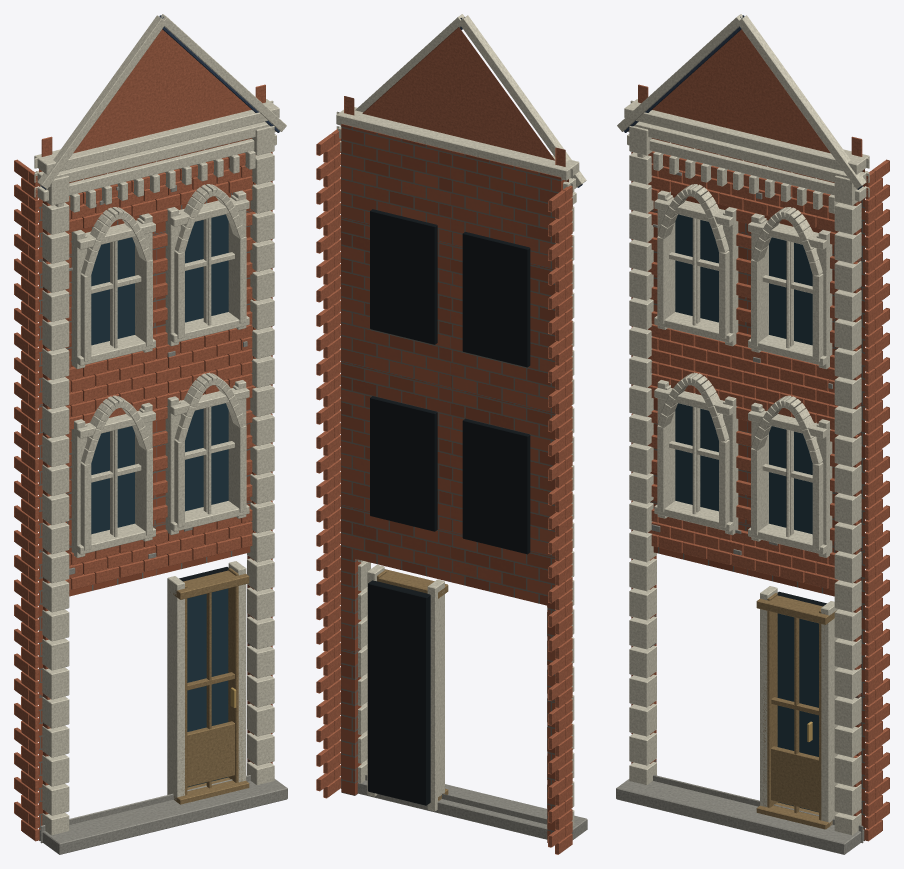
File: VICT34_lod0.glb
3 views of the same model, side by side, from view 1: azimuth 30°, elevation 25°; view 2: azimuth 150°, elevation 25°; view 3: azimuth 330°, elevation 25° (orthographic).
Visible parts, largest first — view 1: VICT34_FRONT_LOD0; view 2: VICT34_FRONT_LOD0; view 3: VICT34_FRONT_LOD0.
Boxes of the visible parts, x1=… form: VICT34_FRONT_LOD0: x1=14, y1=14, x2=287, y2=854; VICT34_FRONT_LOD0: x1=316, y1=14, x2=587, y2=854; VICT34_FRONT_LOD0: x1=616, y1=14, x2=889, y2=854.
Size of the model in its own units: 3.53 by 11.05 by 1.02.
Materials: 12 (9 with a texture image).
